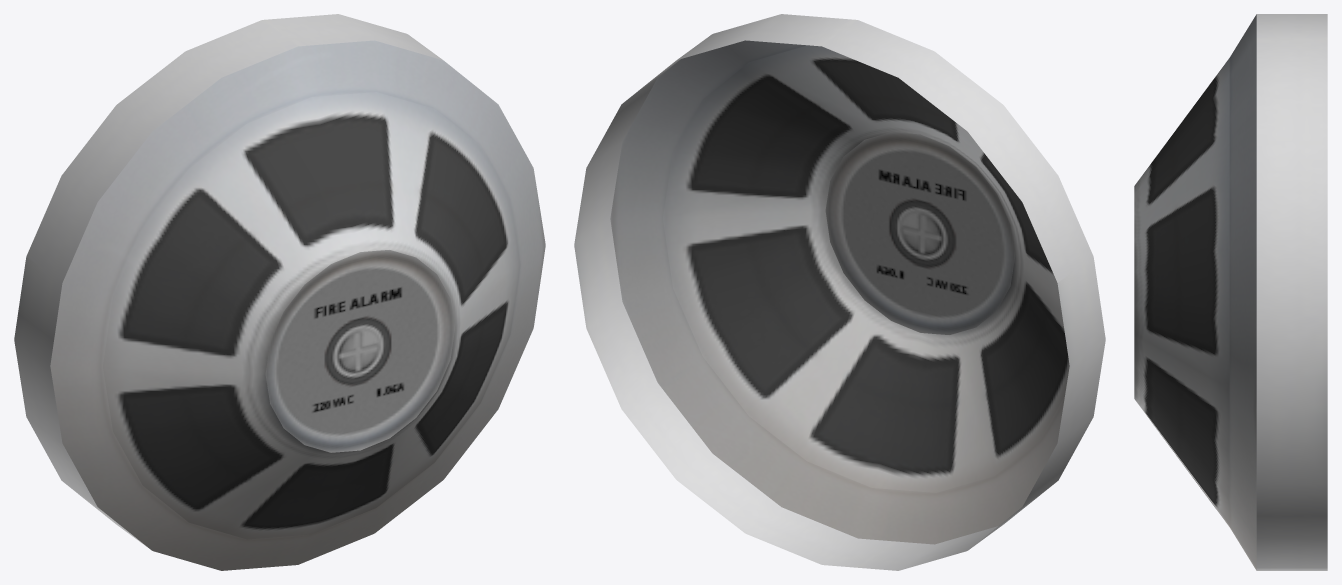
File: ms_fire_alarm_smoke.fbx
3 renders of one model, left to right at view 1: azimuth 30°, elevation 25°; view 2: azimuth 150°, elevation 25°; view 3: azimuth 270°, elevation 25°, orthographic.
Visible parts, largest first — view 1: ms_fire_alarm_smoke; view 2: ms_fire_alarm_smoke; view 3: ms_fire_alarm_smoke.
Boxes of the visible parts, x1,y1,x2,y2 form: ms_fire_alarm_smoke: (14,14,545,570); ms_fire_alarm_smoke: (574,14,1105,570); ms_fire_alarm_smoke: (1134,14,1327,570).
Size of the model in its own units: 13.62 by 13.62 by 4.69.
